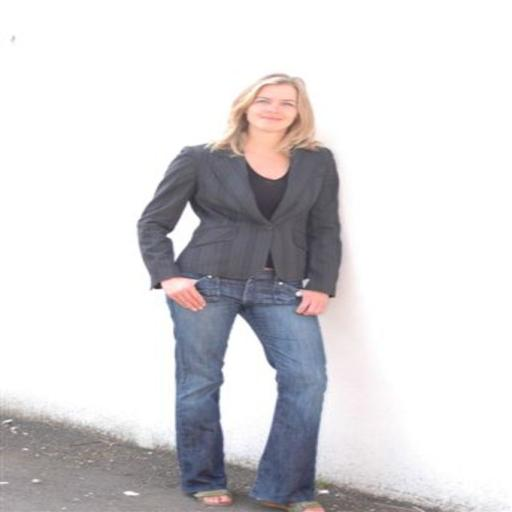Person: (164, 36, 360, 512)
no_boots: (256, 471, 318, 512), (198, 466, 252, 510)
no_gloves: (190, 265, 236, 315), (273, 275, 312, 319)
no_goggle: (249, 92, 292, 114)
no_helmet: (243, 59, 298, 123)
none: (169, 132, 326, 374)
